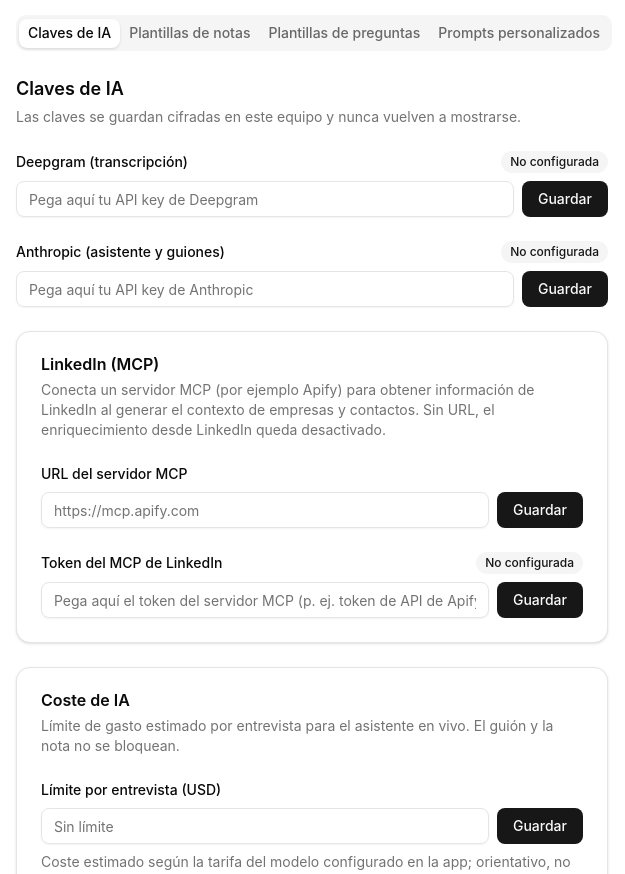
Test: SettingsPage (tabs de Ajustes) › navigation › shows the templates list without reloading the page when the tab is selected
The width and height of the screenshot is (625, 874).
Click the tab "Plantillas de notas". click: coordinates (190, 33)
box: [120,18,260,48]
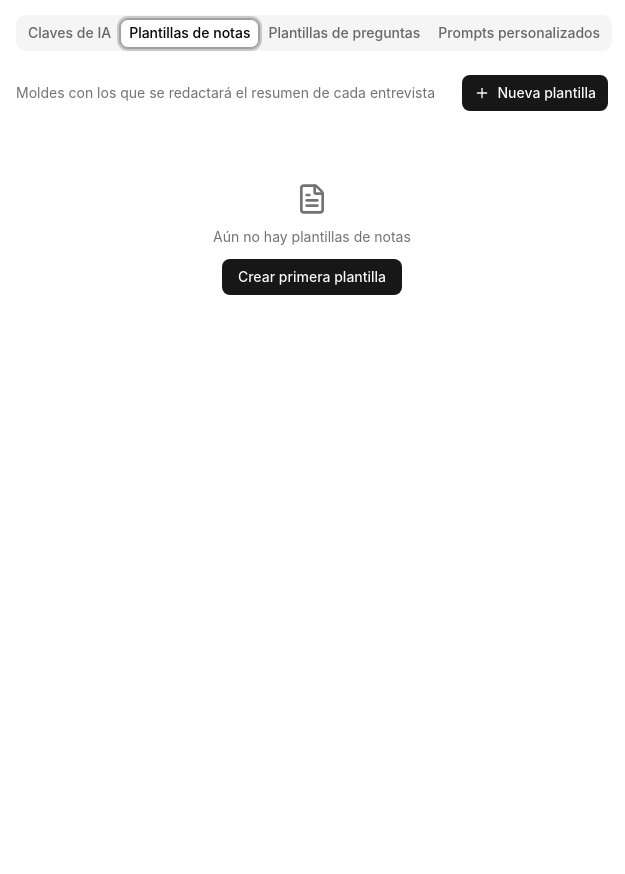
Expected: the tab "Claves de IA" is shown, [19,18,120,48]
Now the text "Moldes con los que se redactará el resumen de cada entrevista" is shown, box [16,83,435,103]
Now the button "Nueva plantilla" is shown, box [462,75,608,111]
